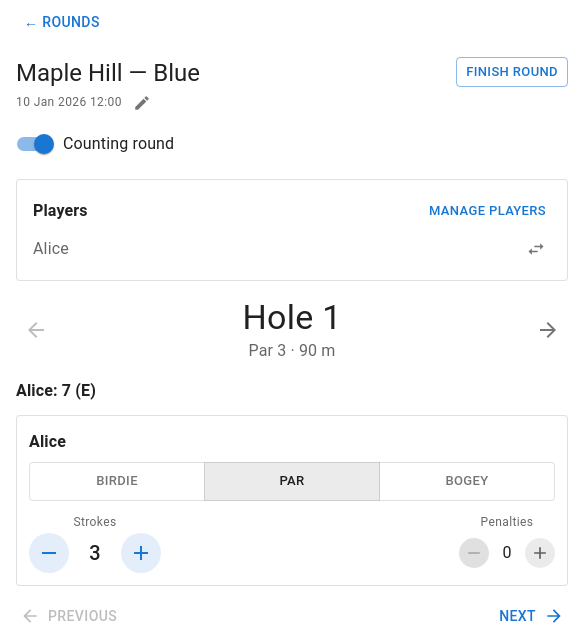
Test: RoundPage › disables previous on the first hole and next on the final summary step
Expected: the heading "Hole 1" is shown, [242,297,342,339]
Expected: the button named "previous hole" is disabled, [16,310,56,350]
Click the button named "next hole". click: (548, 330)
box: [528,310,568,350]
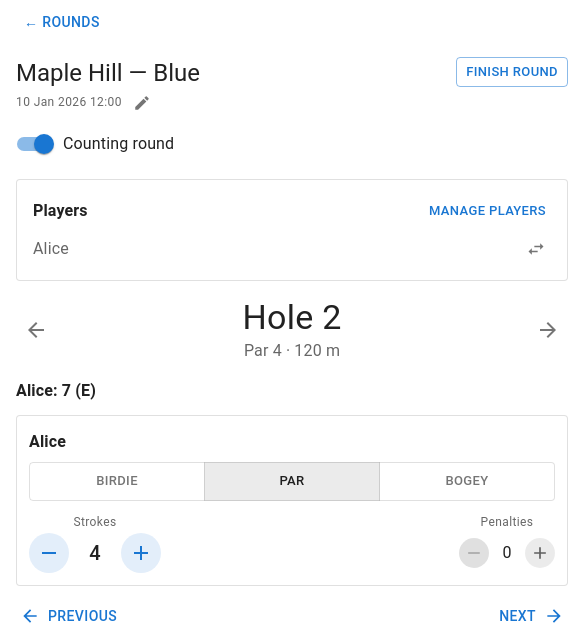
Expected: the heading "Hole 2" is shown, [242,297,342,339]
Click the button named "next hole". click: (548, 330)
box: [528,310,568,350]
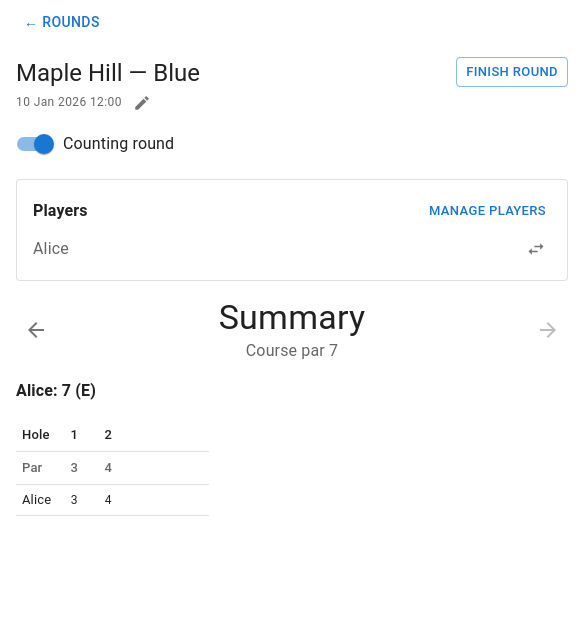
Expected: the heading "Summary" is shown, [219,297,365,339]
Expected: the button named "next hole" is disabled, [528,310,568,350]
